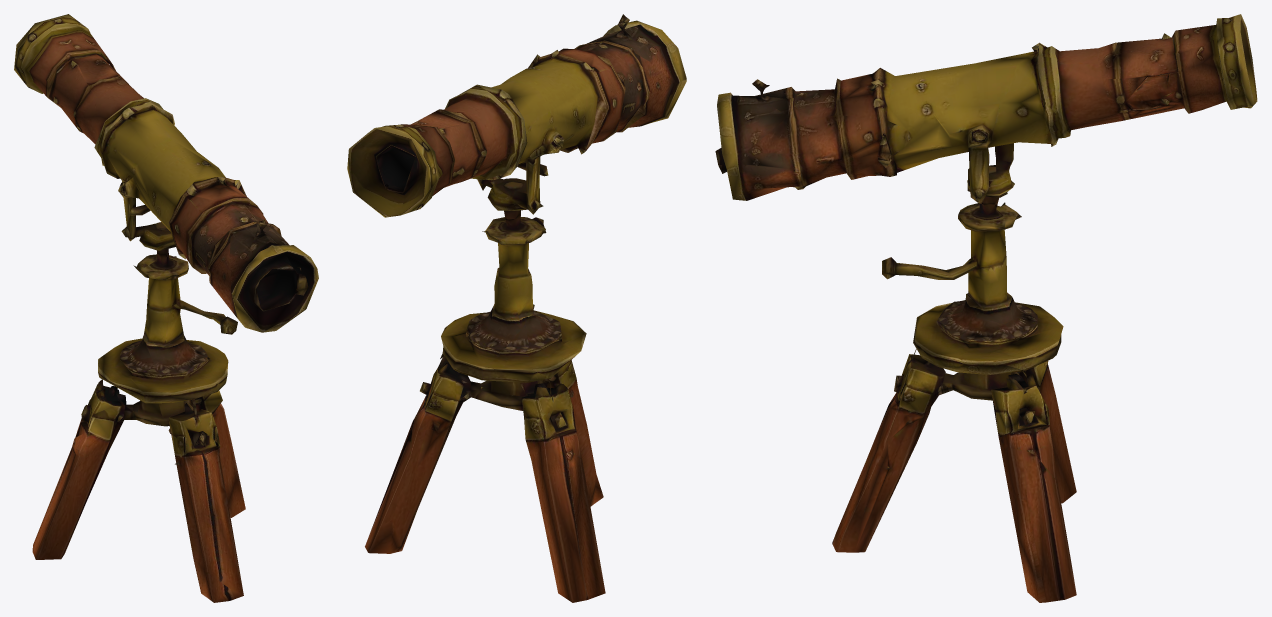
Rendered from telescope.glb.
The picture shows the model from 3 angles, left to right: view 1: azimuth 30°, elevation 25°; view 2: azimuth 150°, elevation 25°; view 3: azimuth 270°, elevation 25°; orthographic projection. The views are drawn at different scales.
Parts seen in each view (by area): view 1: tripo_node_10ab87eb-15dc-43e8-ac50-f25fe25dcd02; view 2: tripo_node_10ab87eb-15dc-43e8-ac50-f25fe25dcd02; view 3: tripo_node_10ab87eb-15dc-43e8-ac50-f25fe25dcd02.
Boxes of the visible parts, x1,y1,x2,y2 form: tripo_node_10ab87eb-15dc-43e8-ac50-f25fe25dcd02: (14, 14, 318, 602); tripo_node_10ab87eb-15dc-43e8-ac50-f25fe25dcd02: (347, 14, 686, 602); tripo_node_10ab87eb-15dc-43e8-ac50-f25fe25dcd02: (715, 14, 1257, 602).
Bounding box in the file's own units: 0.47 × 0.9751 × 0.9133.
Materials: 1 (1 with a texture image).
